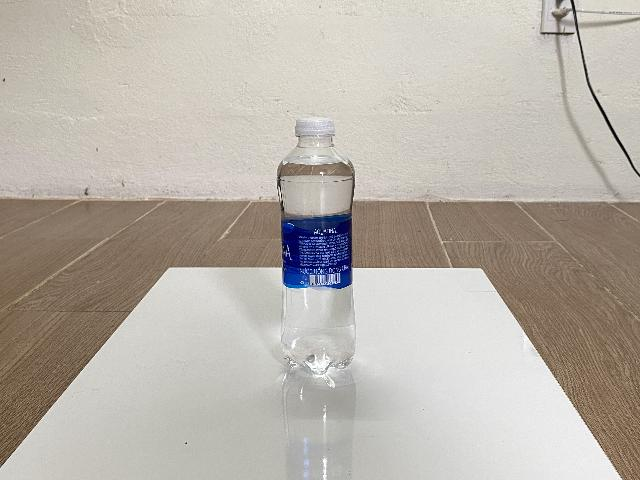aquafina: (277, 117, 356, 375)
